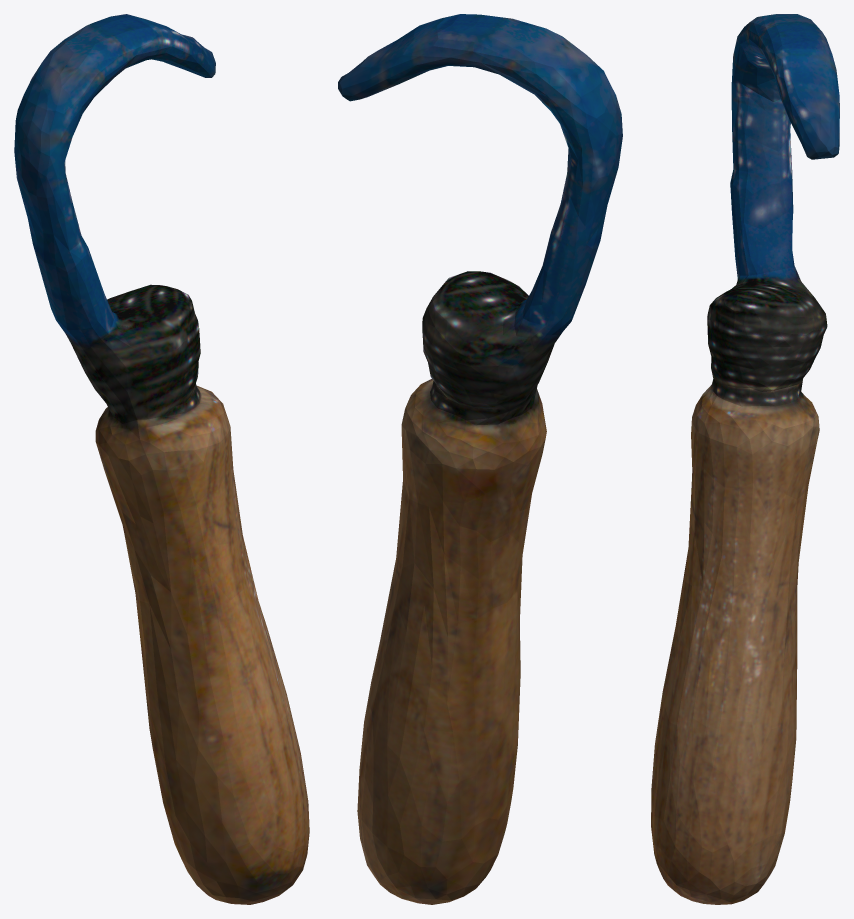
The picture shows the model from 3 angles, left to right: view 1: azimuth 30°, elevation 25°; view 2: azimuth 150°, elevation 25°; view 3: azimuth 270°, elevation 25°; orthographic projection. The views are drawn at different scales.
Parts seen in each view (by area): view 1: Tueroeffner_2k_2k; view 2: Tueroeffner_2k_2k; view 3: Tueroeffner_2k_2k.
Boxes of the visible parts, left/top/right/bottom form: Tueroeffner_2k_2k: left=14, top=14, right=309, bottom=904; Tueroeffner_2k_2k: left=338, top=14, right=622, bottom=904; Tueroeffner_2k_2k: left=651, top=14, right=839, bottom=904.
Bounding box in the file's own units: 0.0507 × 0.1639 × 0.0339.
Materials: 1 (1 with a texture image).
